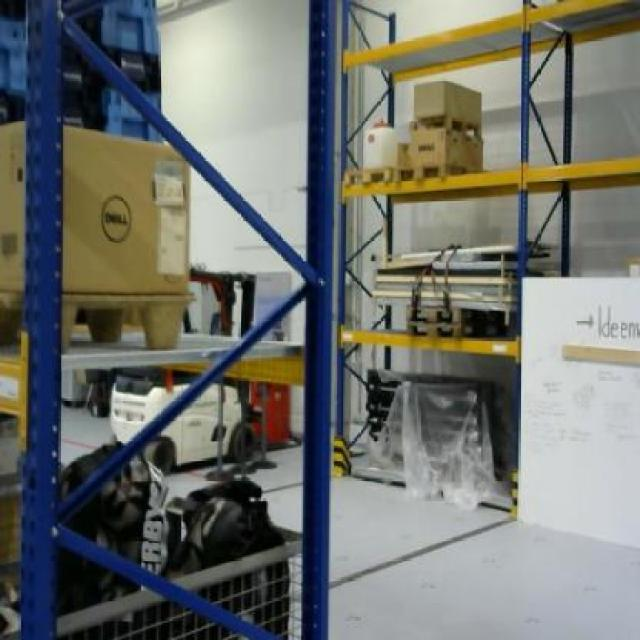box: (3, 120, 189, 291), (411, 80, 482, 128), (410, 129, 484, 171)
